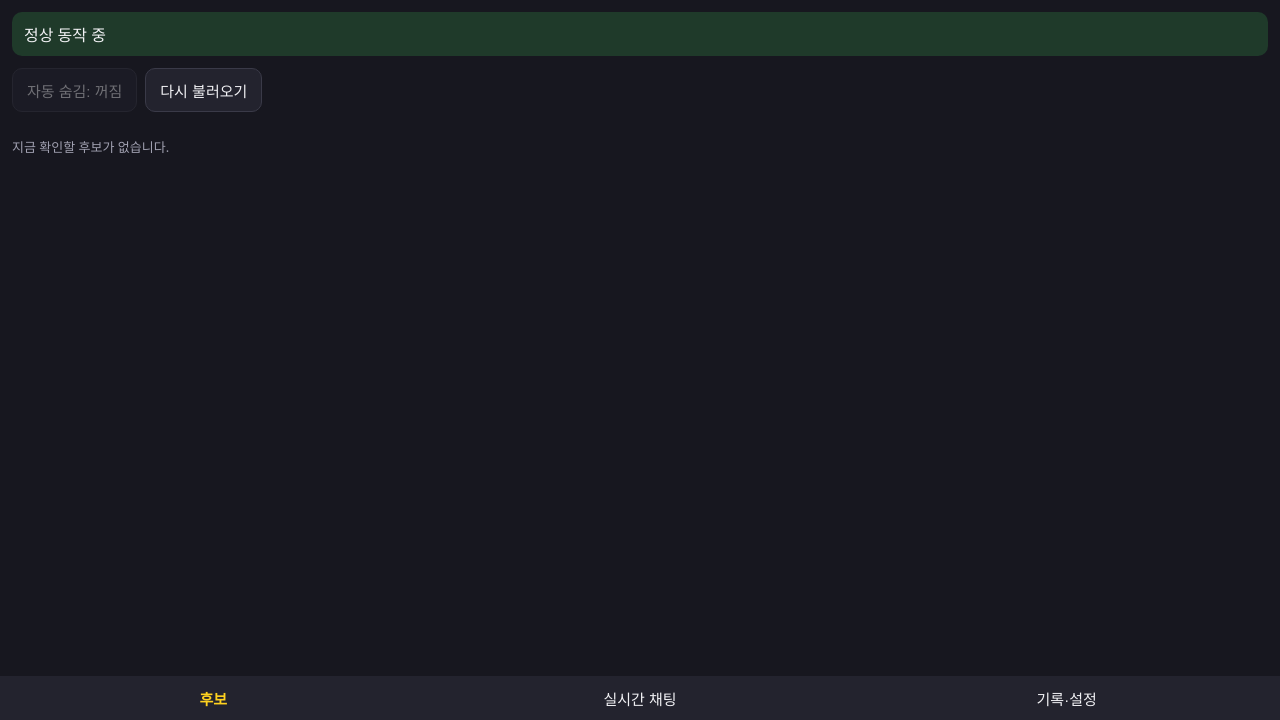
Scenario: App 역할 변경 반영(K23) › 실시간 첫 연결 뒤에도 내 정보를 다시 읽어, 티켓 발급 때 내려간 역할을 반영한다
The width and height of the screenshot is (1280, 720).
What coordinates should you click on to do the following:
click the button "기록·설정"
I would click on:
 (1067, 698)
Its box is [853,676,1279,719].
(page scrolled)
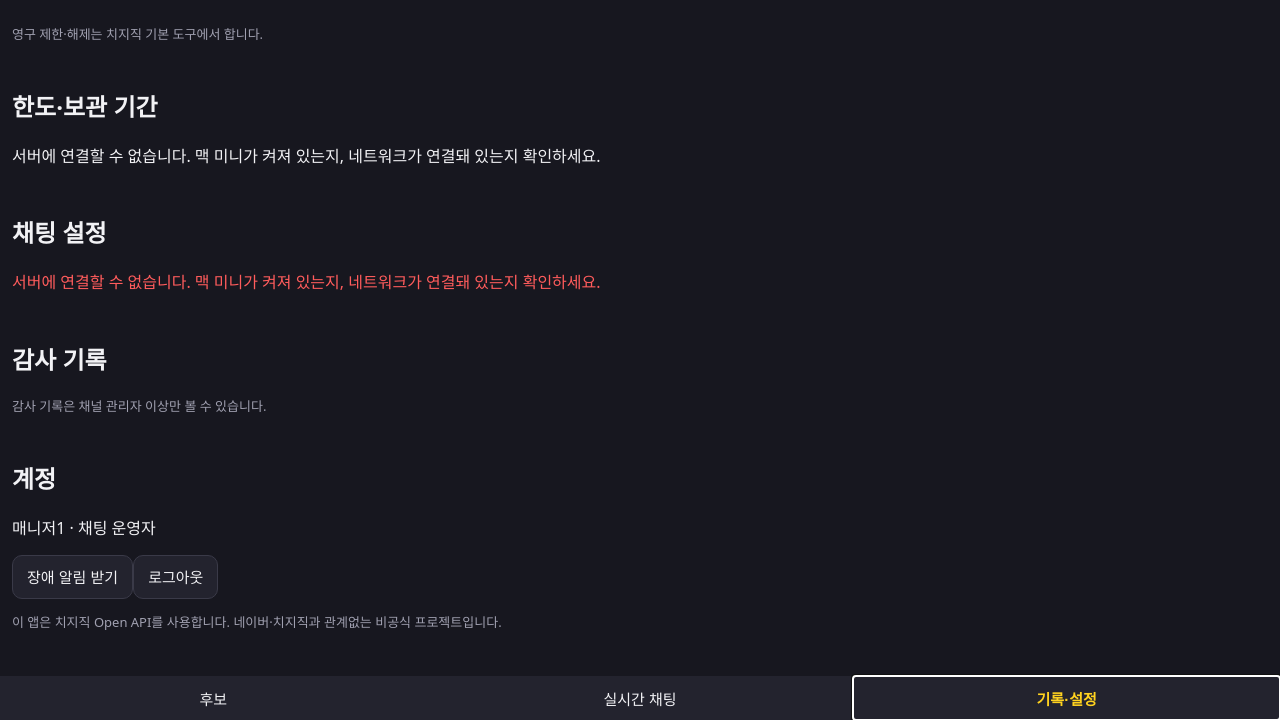
Check: the text "감사 기록은 채널 관리자 이상만 볼 수 있습니다." is shown, box [12,397,266,415]
